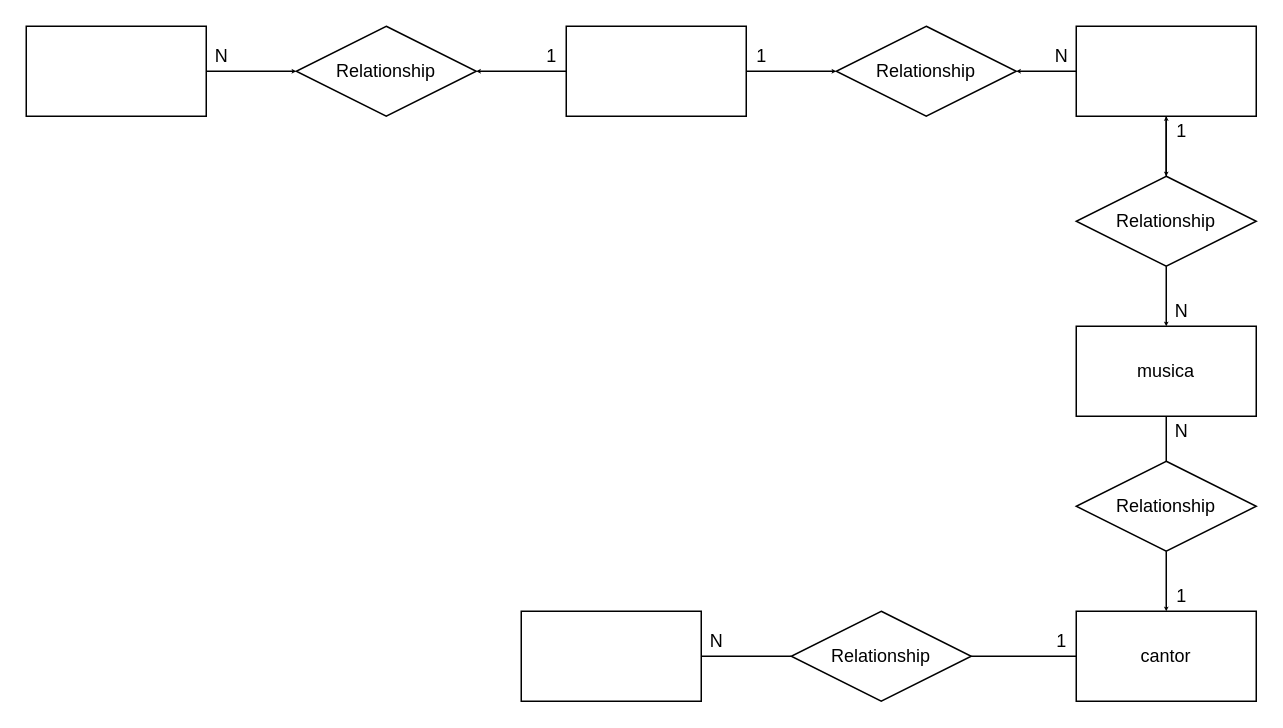
This 1283x728 diagram has some shape labels left out. Here are the shapes that lost their labels. From the top down, the centre of each, then its label:
the point at 115,70: usuario
the point at 655,70: Optus
the point at 1165,70: album
the point at 610,655: estilo musical
